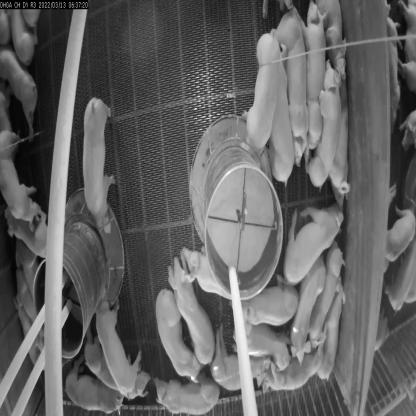Pig: (77, 90, 122, 233), (282, 186, 342, 285), (272, 4, 310, 157), (81, 327, 149, 405), (166, 247, 211, 355), (183, 246, 236, 331), (0, 37, 45, 132), (0, 116, 37, 230), (271, 56, 298, 207), (244, 270, 305, 336), (283, 248, 316, 367), (310, 53, 336, 203), (98, 294, 138, 387), (213, 330, 280, 385), (304, 7, 328, 154), (150, 287, 191, 373), (254, 24, 278, 159), (64, 370, 136, 415), (262, 351, 323, 400), (316, 238, 341, 354), (152, 379, 217, 416), (320, 287, 341, 396), (240, 324, 284, 370)
